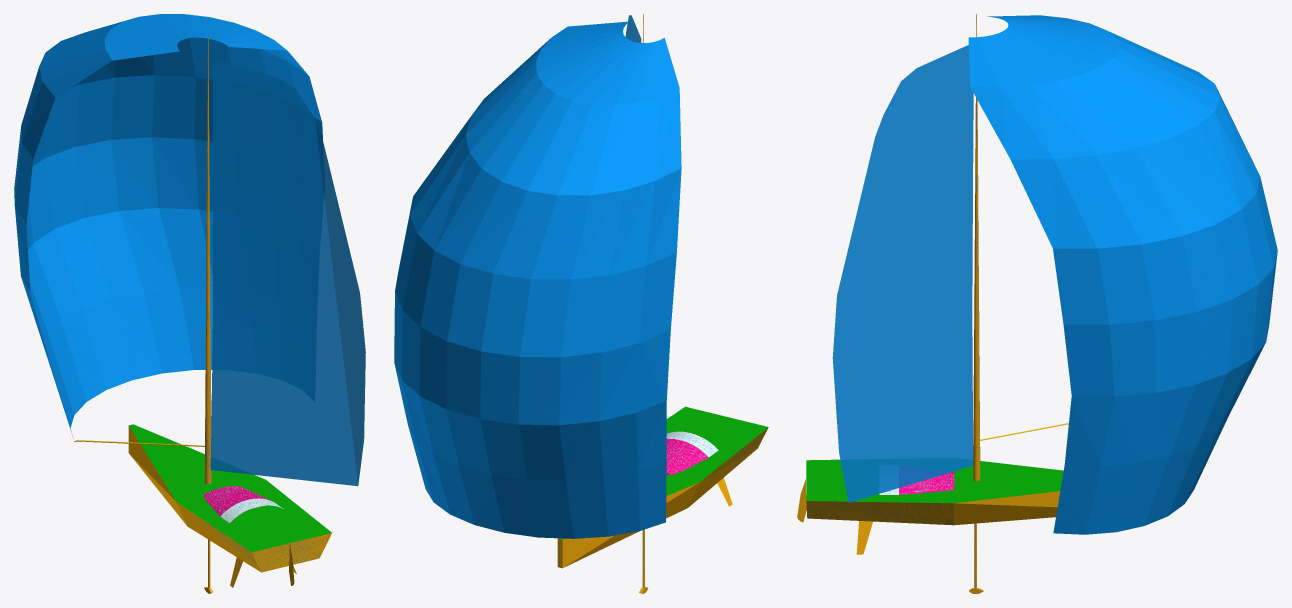
File: spi_babord_monocoque.dae
3 renders of one model, left to right at view 1: azimuth 30°, elevation 25°; view 2: azimuth 150°, elevation 25°; view 3: azimuth 270°, elevation 25°, orthographic. The views are drawn at different scales.
Visible parts, largest first — view 1: SketchUp (×8); view 2: SketchUp (×5); view 3: SketchUp (×7).
Part boxes in pixels (x1,y1,x2,y2): SketchUp (×8): (14, 14, 365, 572); SketchUp (×5): (394, 21, 768, 567); SketchUp (×7): (806, 14, 1277, 534).
Size of the model in its own units: 66886 by 101999 by 135626.
